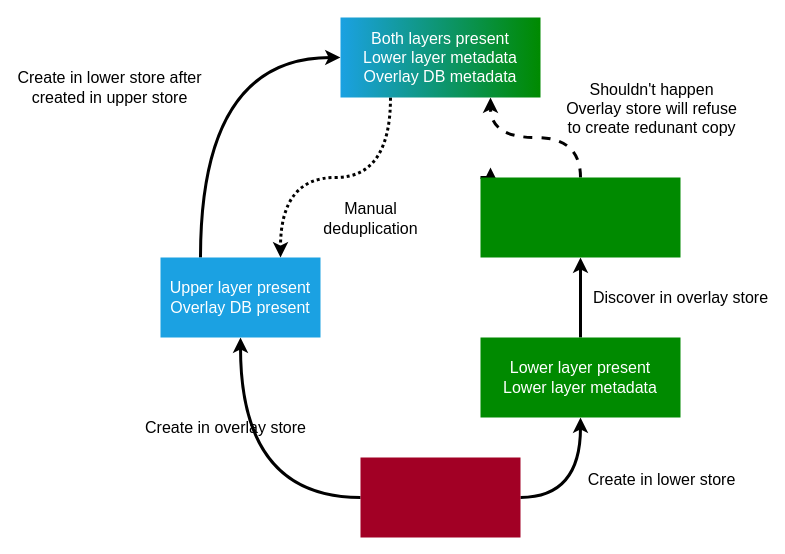
Some shapes in this 785 by 554 pixel diagram are drawn without their labels. Here are the shapes that lost their labels. From the top down, the centre of each, then its label:
the point at 580,217: Lower layer present Lower layer metadata Overlay DB metadata
the point at 440,497: Absent Store Object
